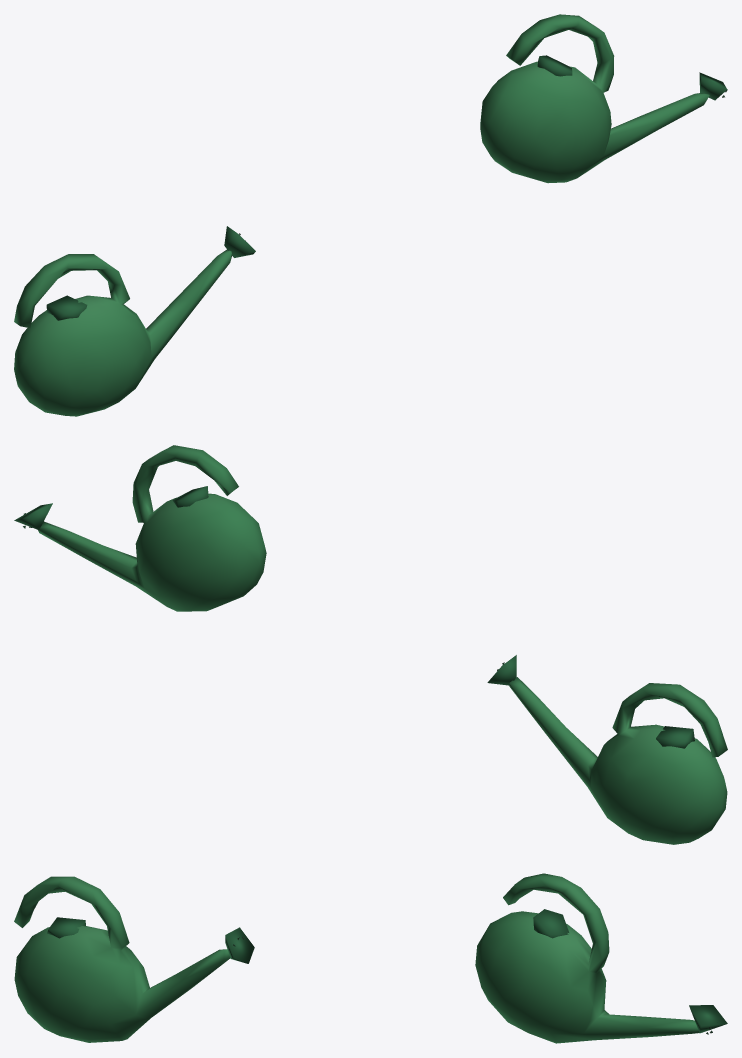
The model's file is binh_tuoi.glb.
The picture shows the model from 3 angles, top to bottom: view 1: azimuth 30°, elevation 25°; view 2: azimuth 150°, elevation 25°; view 3: azimuth 330°, elevation 25°; orthographic projection.
Visible parts, largest first — view 1: binh_tuoi; view 2: binh_tuoi; view 3: binh_tuoi.
Part boxes in pixels (box(x1,y1,x2,y2)): binh_tuoi: box(14, 14, 727, 416); binh_tuoi: box(14, 445, 727, 844); binh_tuoi: box(14, 873, 727, 1043).
Bounding box in the file's own units: 1.46 × 0.5378 × 0.1712.
